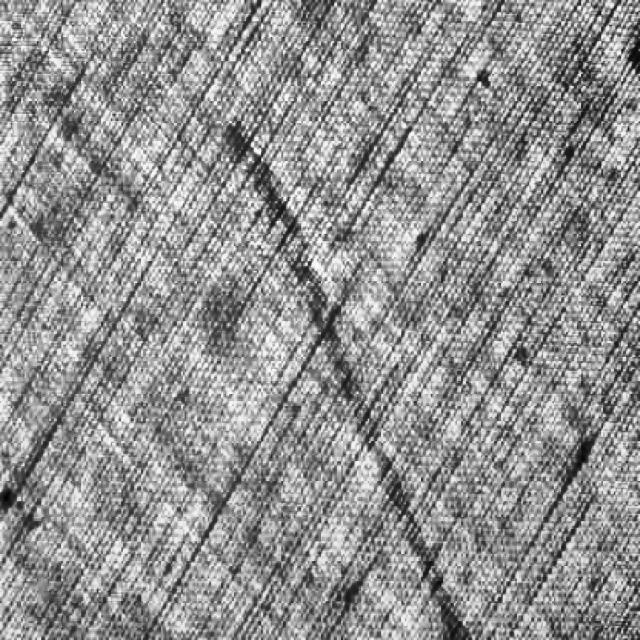oil_spot: (205, 101, 488, 640)
